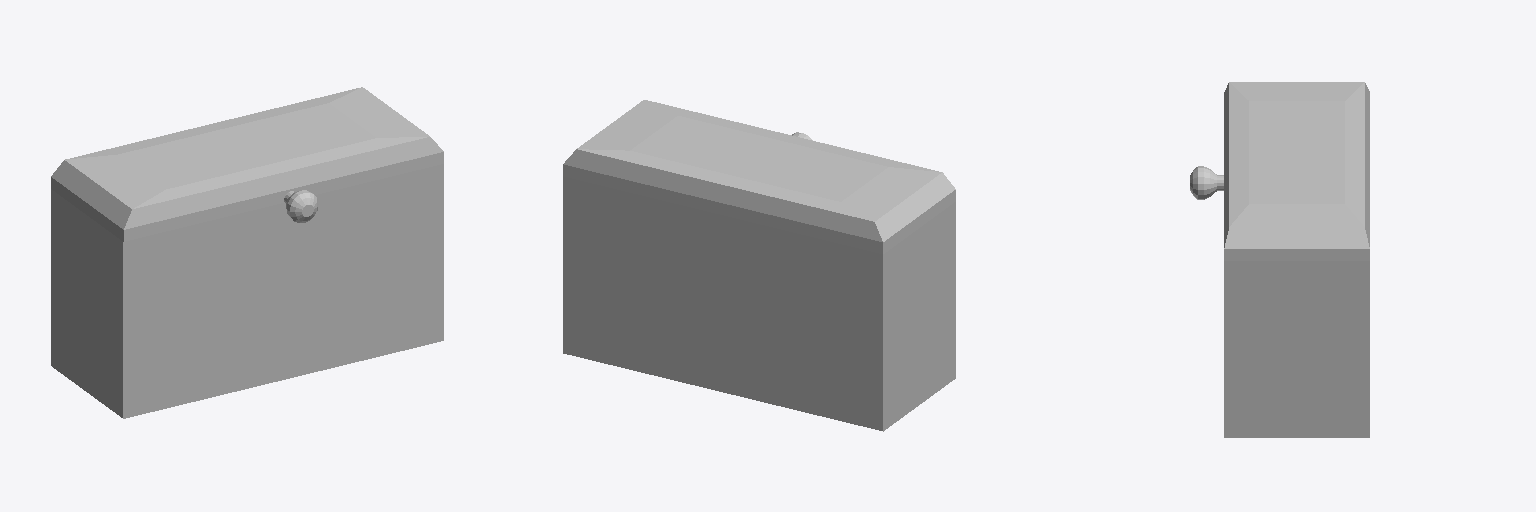
File: Chest.obj
3 renders of one model, left to right at view 1: azimuth 30°, elevation 25°; view 2: azimuth 150°, elevation 25°; view 3: azimuth 270°, elevation 25°, orthographic.
Visible parts, largest first — view 1: ChestBase, ChestLid, Door_knob.001; view 2: ChestBase, ChestLid; view 3: ChestLid, ChestBase, Door_knob.001.
Boxes of the visible parts, box(x1,y1,x2,y2) form: ChestBase: box(51, 179, 443, 418); ChestLid: box(51, 87, 443, 256); Door_knob.001: box(284, 190, 318, 222); ChestBase: box(563, 192, 955, 431); ChestLid: box(563, 100, 955, 269); ChestLid: box(1224, 82, 1369, 275); ChestBase: box(1224, 276, 1369, 437); Door_knob.001: box(1190, 166, 1223, 199).
Bounding box in the file's own units: 12.19 × 7.51 × 5.93.